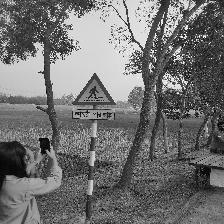Pedestrian-crossing: (71, 72, 117, 124)
